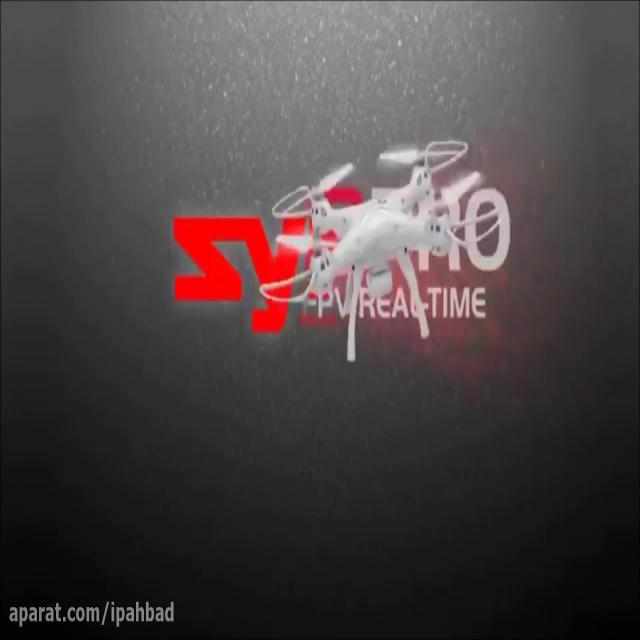drone: (258, 137, 504, 363)
